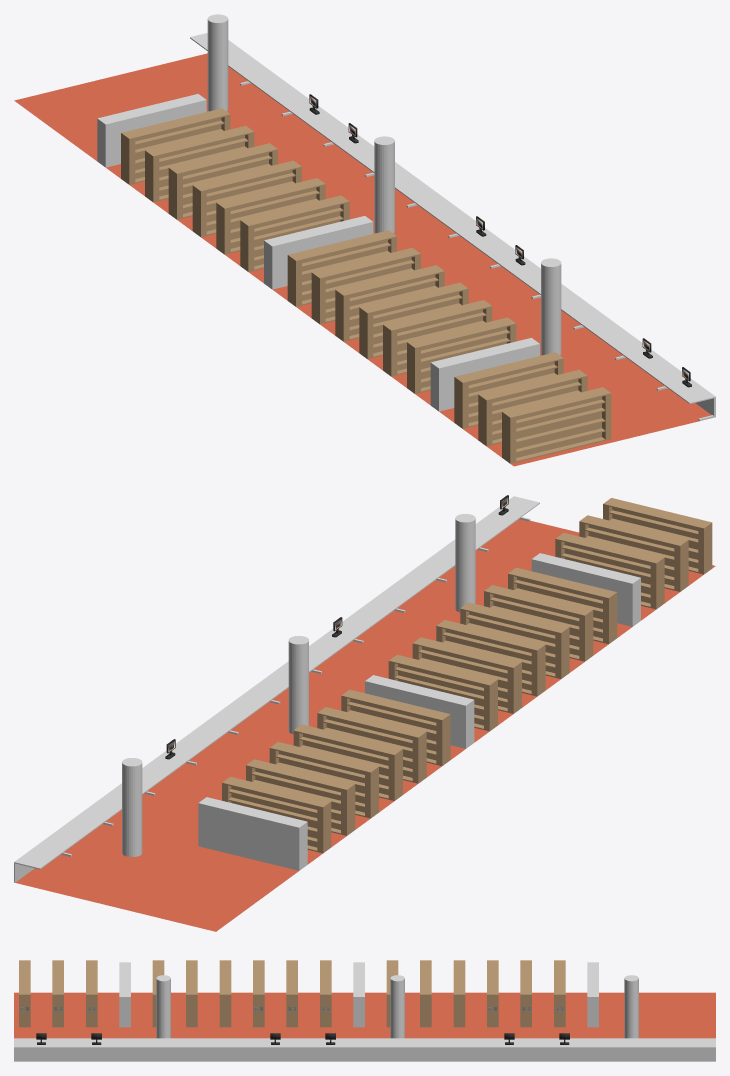
File: biblioteca-xl.dae
3 renders of one model, top to bottom at view 1: azimuth 30°, elevation 25°; view 2: azimuth 150°, elevation 25°; view 3: azimuth 270°, elevation 25°, orthographic. The views are drawn at different scales.
Parts seen in each view (by area): view 1: Pavimento.002, Pavimento.005, Pavimento.003, Pavimento.001, Bookshelf.002, Bookshelf.014, Bookshelf.017, Bookshelf.006, Bookshelf.015, Bookshelf.013, Bookshelf.004, Bookshelf.003 (+19 smaller); view 2: Pavimento.002, Pavimento.003, Pavimento.005, Placeholder.003, Pavimento.001, Bookshelf.012, Bookshelf.006, Bookshelf.003, Bookshelf.010, Bookshelf.016, Bookshelf.014, Bookshelf.002 (+19 smaller); view 3: Pavimento.005, Pavimento.003, Pavimento.002, Pavimento.001, Tavolo.006, Tavolo.004, Tavolo.002, Tavolo.005, Tavolo.003, Tavolo.001, Colonna.002, Colonna.001 (+19 smaller).
Boxes of the visible parts, x1,y1,x2,y2 form: Pavimento.002: (14,53,372,222); Pavimento.005: (347,297,711,466); Pavimento.003: (86,105,447,239); Pavimento.001: (181,175,539,344); Bookshelf.002: (502,387,611,463); Bookshelf.014: (240,195,349,271); Bookshelf.017: (407,317,516,393); Bookshelf.006: (287,230,396,306); Bookshelf.015: (192,160,301,237); Bookshelf.013: (216,178,325,254); Bookshelf.004: (311,247,420,324); Bookshelf.003: (454,352,563,428); Pavimento.002: (15,809,381,931); Pavimento.003: (93,710,453,879); Pavimento.005: (355,519,715,687); Placeholder.003: (198,797,307,870); Pavimento.001: (258,641,548,809); Bookshelf.012: (222,776,331,853); Bookshelf.006: (388,654,497,731); Bookshelf.003: (555,533,664,609); Bookshelf.010: (246,759,355,835); Bookshelf.016: (484,585,593,661); Bookshelf.014: (341,689,450,766); Bookshelf.002: (603,498,712,574); Pavimento.005: (14,992,247,1038); Pavimento.003: (381,992,615,1038); Pavimento.002: (482,992,715,1038); Pavimento.001: (248,992,481,1038); Tavolo.006: (599,1038,715,1061); Tavolo.004: (365,1038,481,1061); Tavolo.002: (131,1038,247,1061); Tavolo.005: (482,1038,598,1061); Tavolo.003: (248,1038,364,1061); Tavolo.001: (14,1038,130,1061); Colonna.002: (624,975,638,1038); Colonna.001: (390,975,404,1038).
Bounding box in the file's own units: 9.8 × 42 × 4.2.
Materials: 11 (8 with a texture image).
